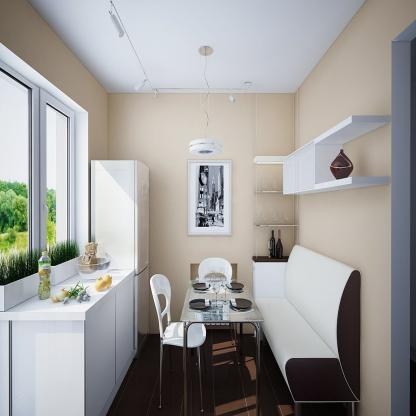kursi: (145, 275, 209, 408)
meja: (181, 270, 263, 411)
sova: (256, 245, 367, 415)
